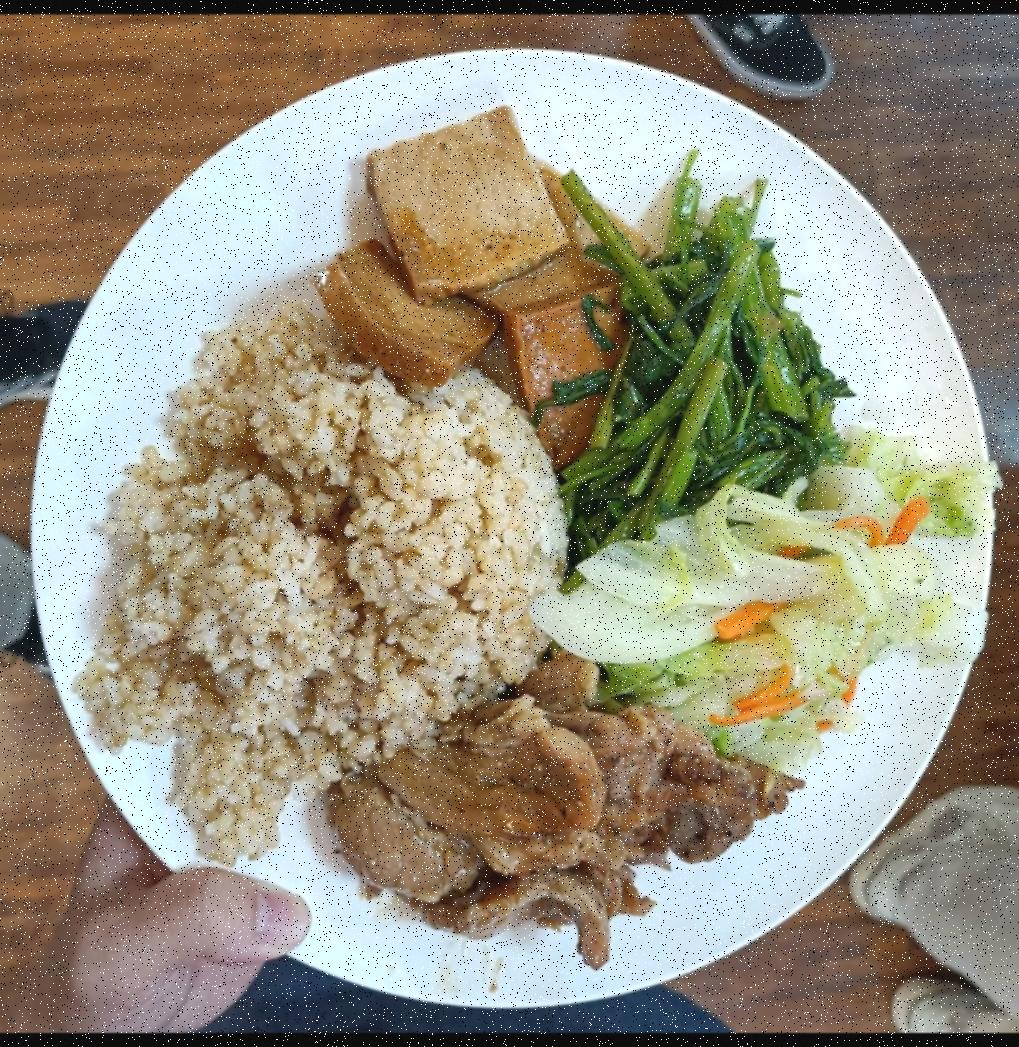brown rice: (76, 344, 578, 869)
plate: (22, 27, 1008, 1025)
sauteed pork: (328, 675, 808, 960)
side dish: (548, 432, 992, 765), (322, 109, 645, 481), (552, 180, 850, 540)
